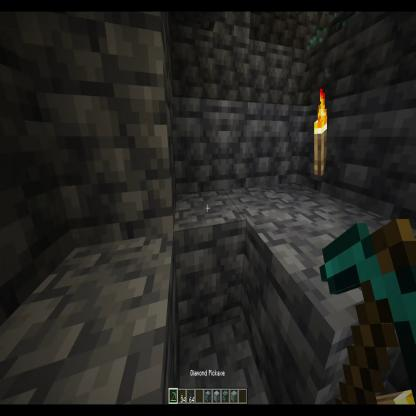diamond ore: (304, 22, 331, 55)
